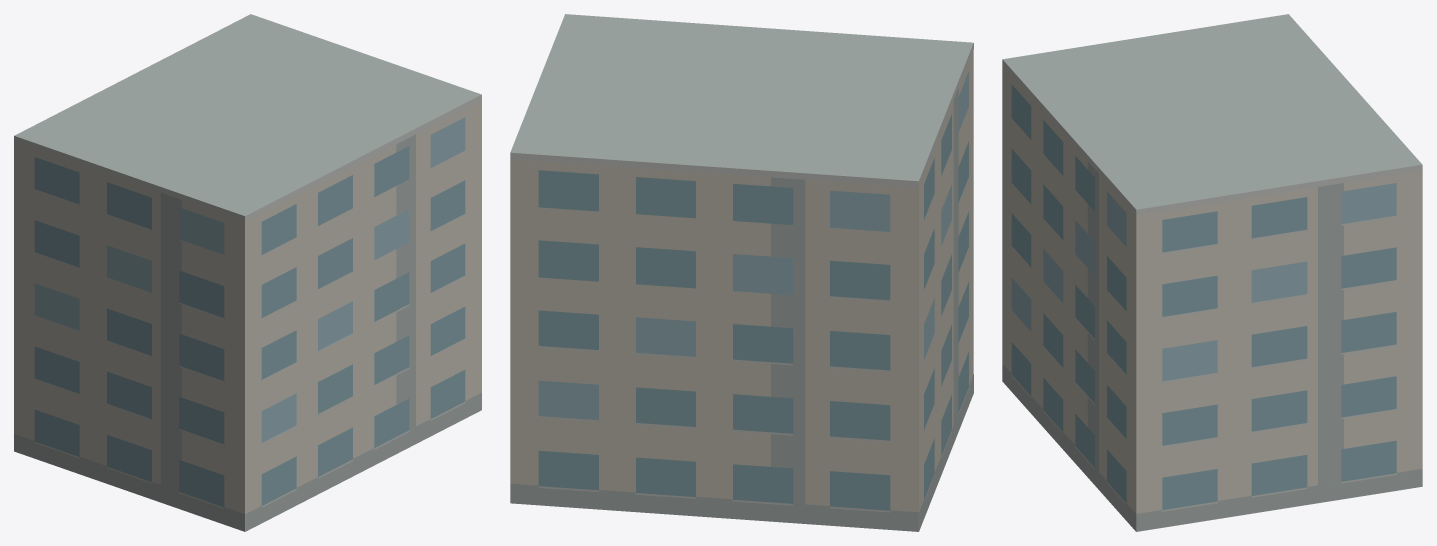
File: survey-upis-32850456.glb
The picture shows the model from 3 angles, left to right: view 1: azimuth 30°, elevation 25°; view 2: azimuth 150°, elevation 25°; view 3: azimuth 270°, elevation 25°; orthographic projection. The views are drawn at different scales.
Parts seen in each view (by area): view 1: survey-upis-32850456.tmp; view 2: survey-upis-32850456.tmp; view 3: survey-upis-32850456.tmp.
Part boxes in pixels (x1,y1,x2,y2): survey-upis-32850456.tmp: (14,14,481,531); survey-upis-32850456.tmp: (510,14,973,531); survey-upis-32850456.tmp: (1002,14,1422,531).
Size of the model in its own units: 17.34 by 13.3 by 15.73.
